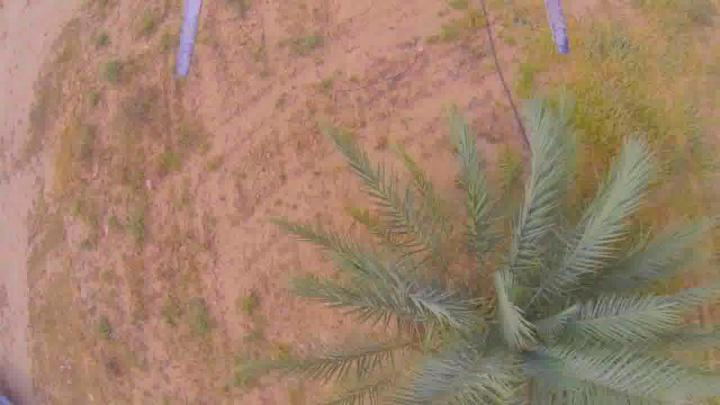Date-Palm-Crown: (395, 212, 624, 404)
